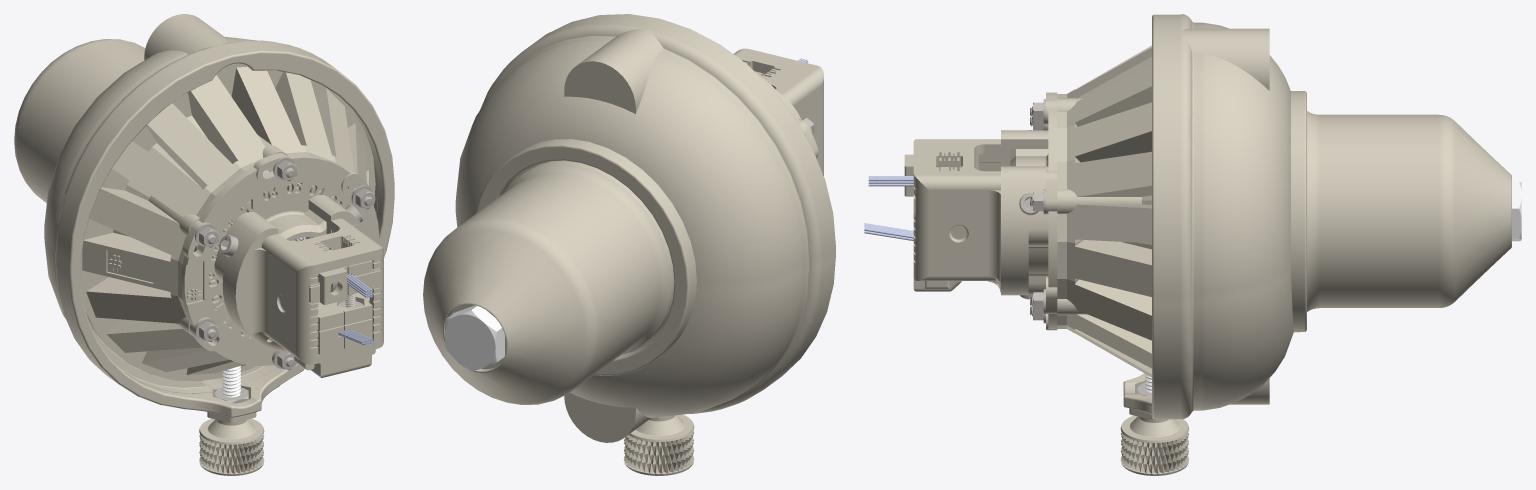
Rendered from dual-bundle-electrode-drive.glb.
3 renders of one model, left to right at view 1: azimuth 30°, elevation 25°; view 2: azimuth 150°, elevation 25°; view 3: azimuth 270°, elevation 25°, orthographic. The views are drawn at different scales.
Parts seen in each view (by area): view 1: NAUO3, NAUO119, NAUO4, NAUO57, NAUO120, NAUO58, NAUO121, NAUO59, NAUO60, NAUO128; view 2: NAUO119, NAUO120, NAUO121, NAUO139, NAUO58, NAUO57, NAUO4; view 3: NAUO119, NAUO120, NAUO3, NAUO57, NAUO58, NAUO121, NAUO4.
Part boxes in pixels (x1,y1,x2,y2): NAUO3: (80,63,375,381); NAUO119: (44,14,394,422); NAUO4: (181,153,379,365); NAUO57: (214,195,383,377); NAUO120: (14,39,145,203); NAUO58: (261,218,383,275); NAUO121: (199,418,264,475); NAUO59: (294,292,375,370); NAUO60: (309,260,381,304); NAUO128: (222,366,240,397); NAUO119: (455,14,835,442); NAUO120: (423,160,674,404); NAUO121: (623,414,694,475); NAUO139: (444,305,504,371); NAUO58: (733,48,823,105); NAUO57: (779,83,823,175); NAUO4: (735,55,818,158); NAUO119: (1123,14,1306,420); NAUO120: (1307,111,1511,311); NAUO3: (1057,45,1151,377); NAUO57: (913,130,1048,295); NAUO58: (913,139,1000,190); NAUO121: (1120,415,1189,475); NAUO4: (1010,92,1057,330).
Bounding box in the file's own units: 0.044 × 0.0527 × 0.0732.
